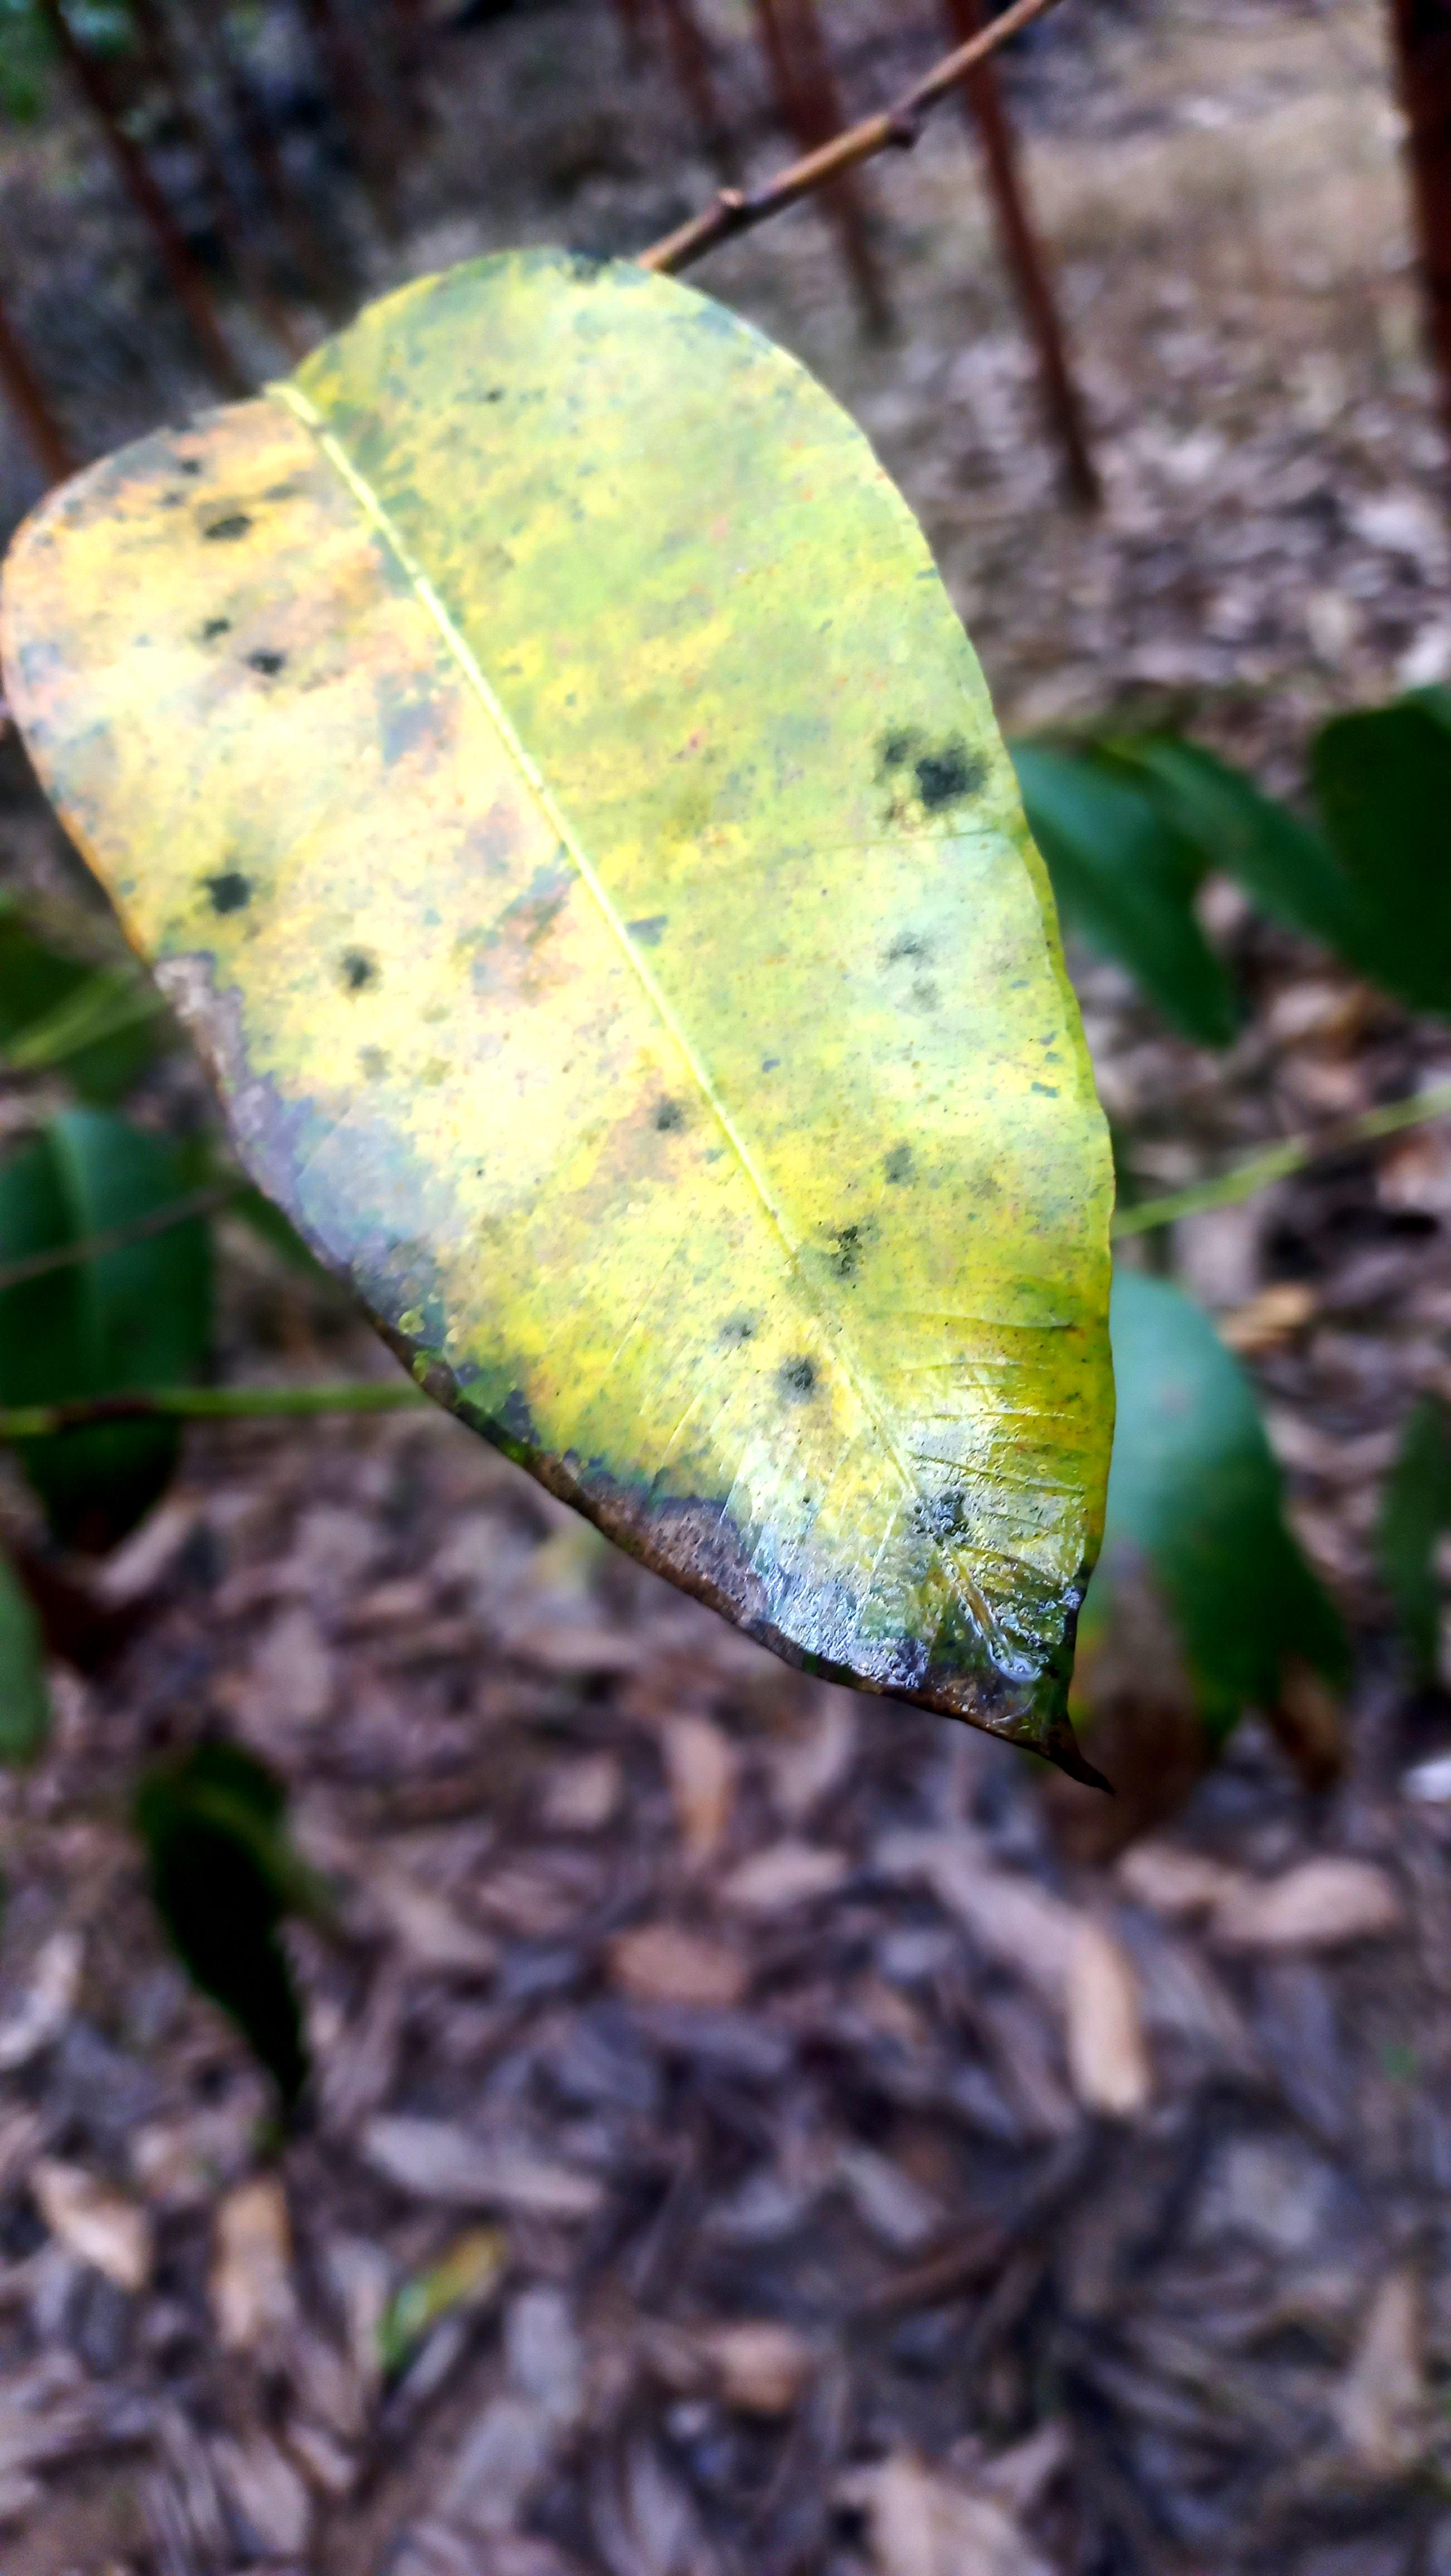Cylindrocladium: (487, 1407, 1159, 1865), (65, 922, 467, 1422)
Embun Jelaga: (138, 251, 1122, 1808)
